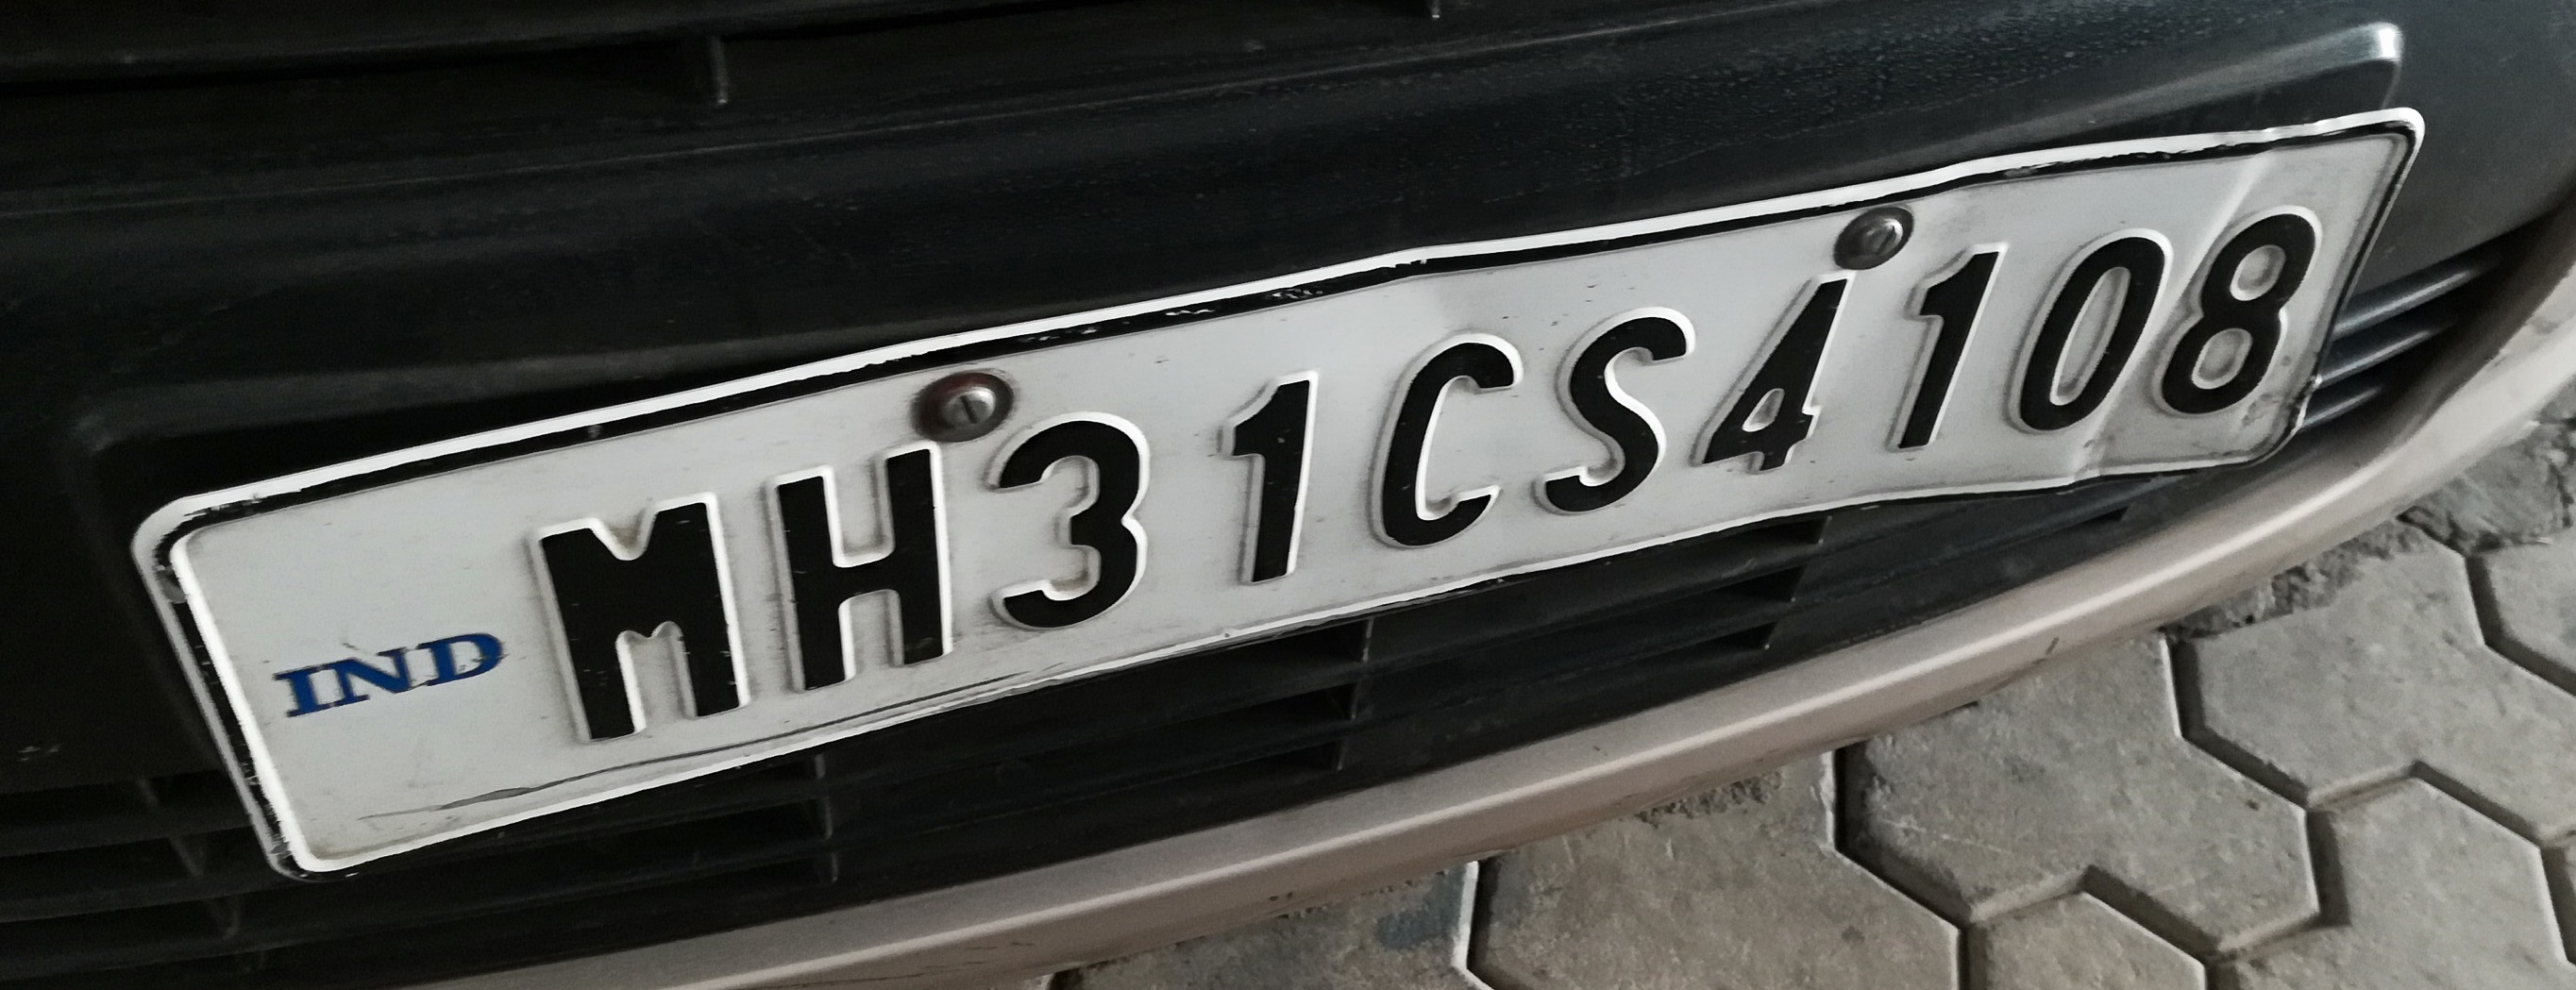numberplate: (123, 92, 2428, 901)
